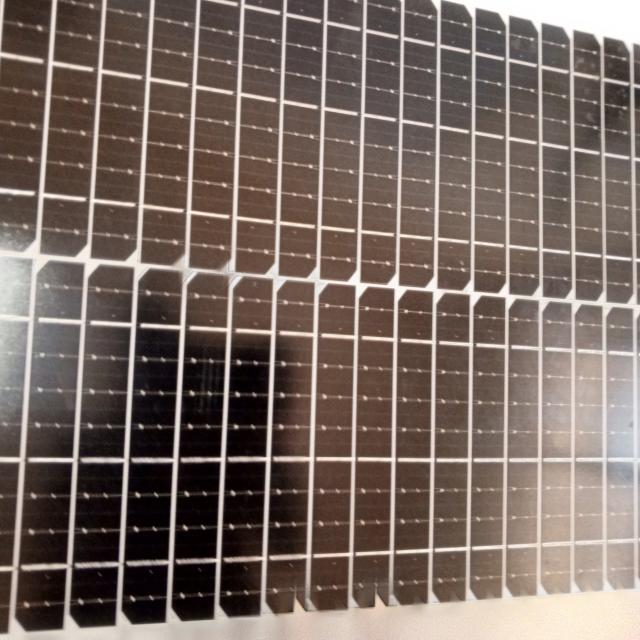Clean: (2, 8, 636, 624)
